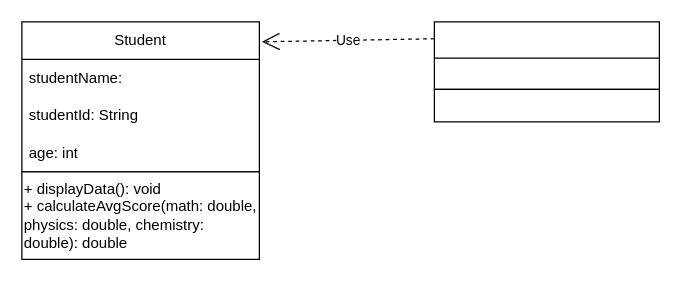
The diagram is 681 pixels wide and 281 high, and some of its shapes have lost their labels. Each missing label, with the centre of its shape:
"+ main(args: String[]): void" belongs at pixel 546 105.
"Main" belongs at pixel 546 55.
